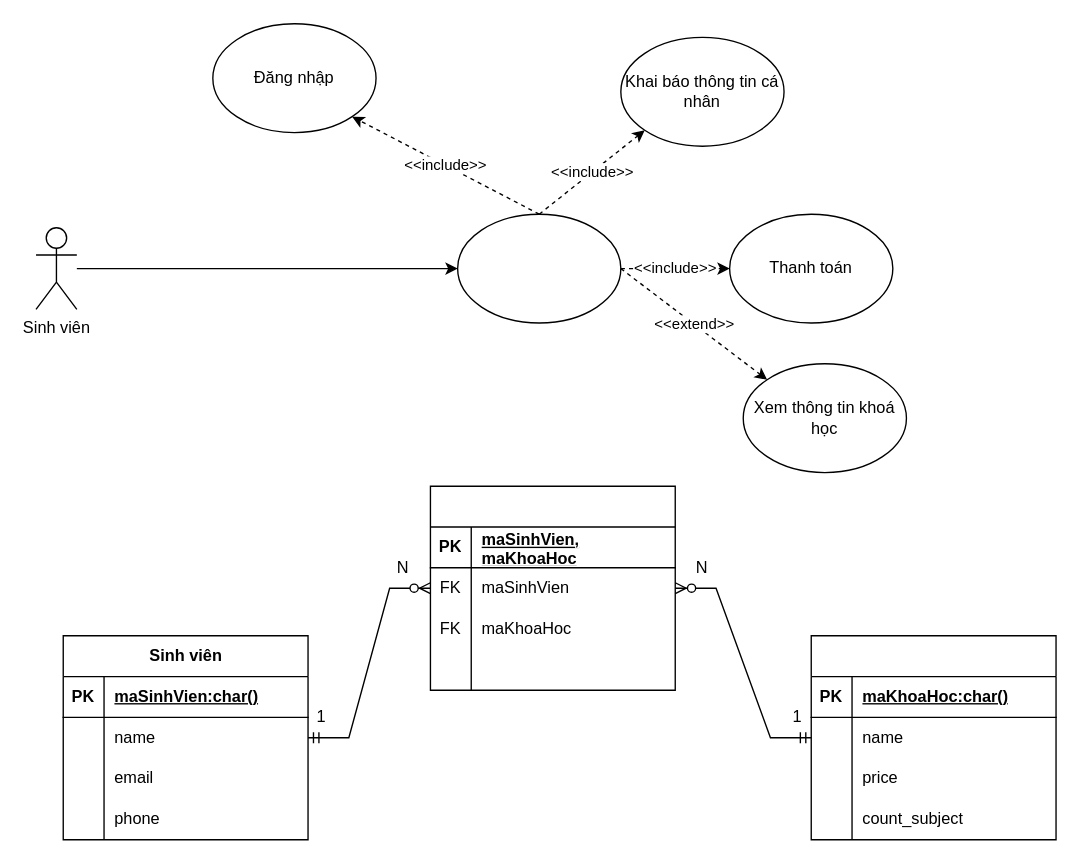
Some shapes in this 1080 by 864 pixel diagram are drawn without their labels. The shapes that lost their labels are listed below. From the top down, each one's box as (x1, y1, x2, y2) in pixels, then its label:
(456, 213, 621, 323): Đăng ký khoá học online
(429, 485, 675, 690): Danh sách đăng ký
(810, 634, 1056, 840): Khoá học
